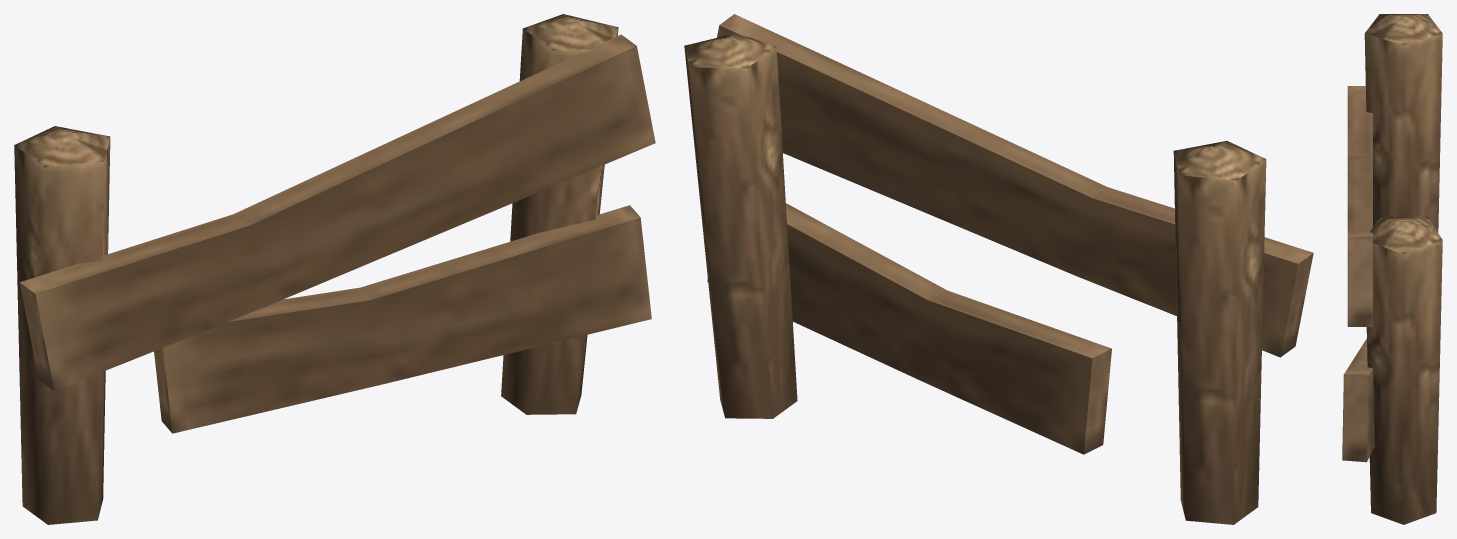
Rendered from a_fence_2.FBX.
The picture shows the model from 3 angles, left to right: view 1: azimuth 30°, elevation 25°; view 2: azimuth 150°, elevation 25°; view 3: azimuth 270°, elevation 25°; orthographic projection. The views are drawn at different scales.
Visible parts, largest first — view 1: Cylinder010; view 2: Cylinder010; view 3: Cylinder010.
Part boxes in pixels (x1,y1,x2,y2): Cylinder010: (14, 14, 655, 524); Cylinder010: (684, 14, 1313, 524); Cylinder010: (1342, 14, 1442, 524).
Size of the model in its own units: 42.77 by 7.56 by 25.55.
